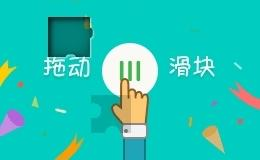target: (25, 0, 69, 37)
